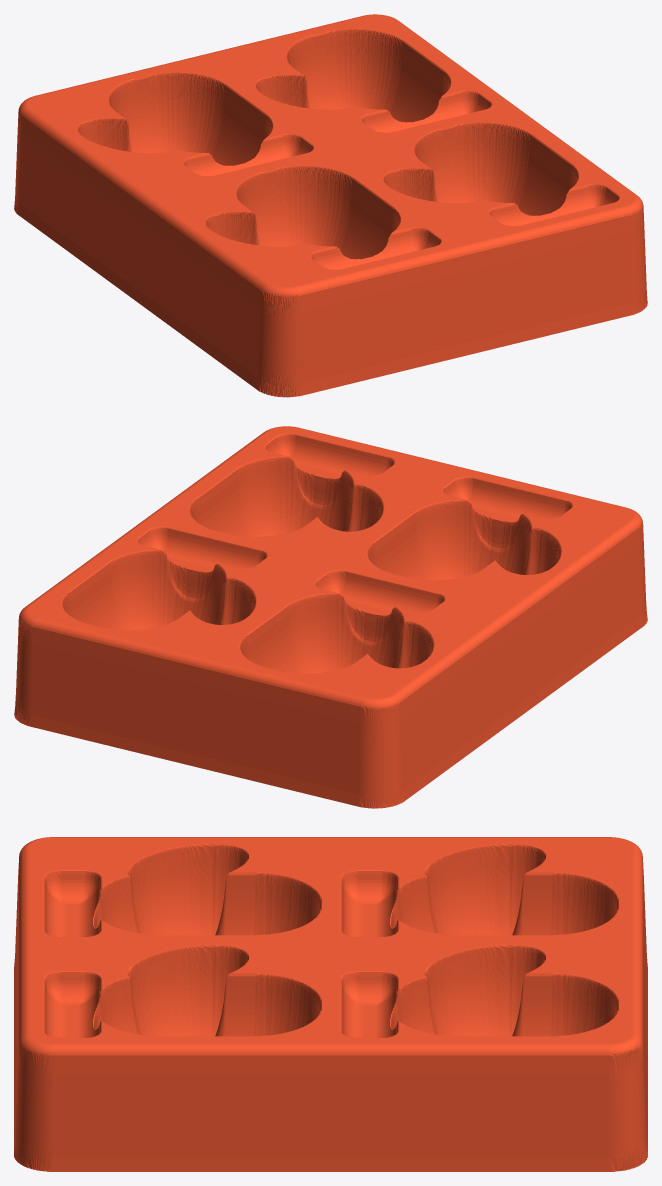
File: mold.glb
3 renders of one model, top to bottom at view 1: azimuth 30°, elevation 25°; view 2: azimuth 150°, elevation 25°; view 3: azimuth 270°, elevation 25°, orthographic. The views are drawn at different scales.
Parts seen in each view (by area): view 1: geometry_0; view 2: geometry_0; view 3: geometry_0.
Part boxes in pixels (box(x1,y1,x2,y2)): geometry_0: box(14, 14, 647, 397); geometry_0: box(14, 426, 647, 808); geometry_0: box(14, 837, 647, 1171).
Size of the model in its own units: 0.1198 by 0.031 by 0.1466.
